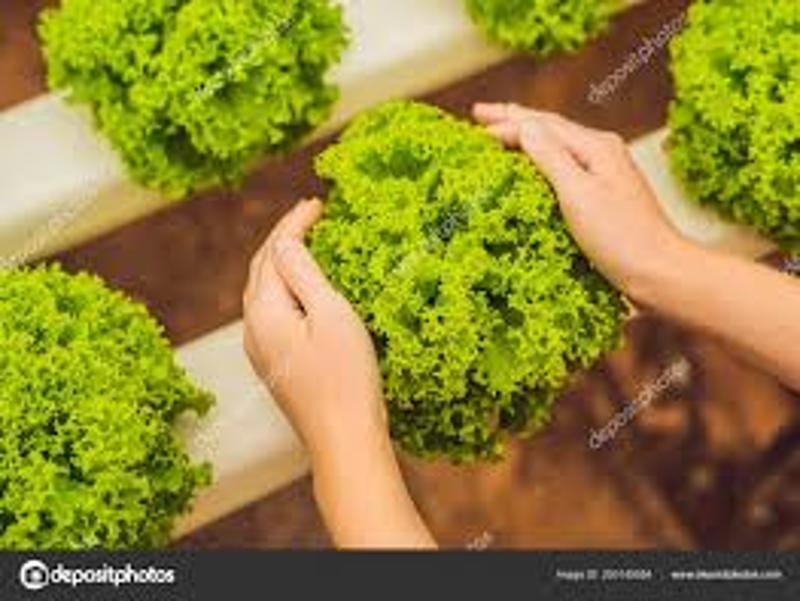green lettuce: (309, 94, 626, 459), (40, 1, 350, 197), (4, 260, 217, 545), (672, 4, 800, 235)
